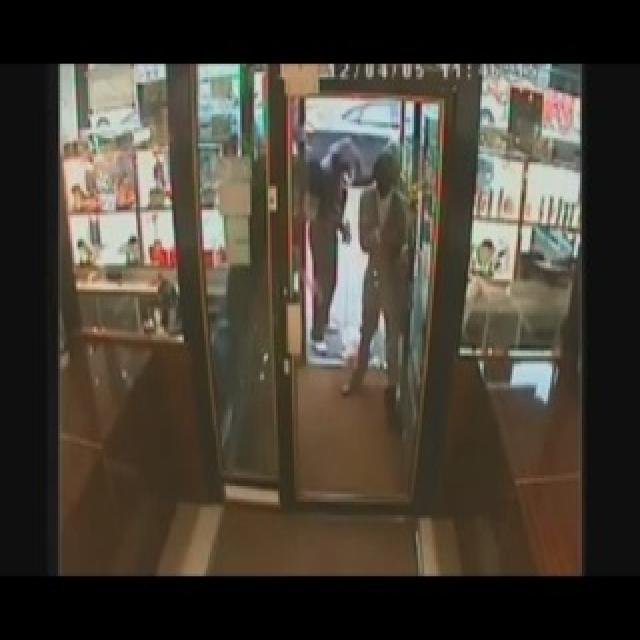thief: (312, 130, 408, 310)
